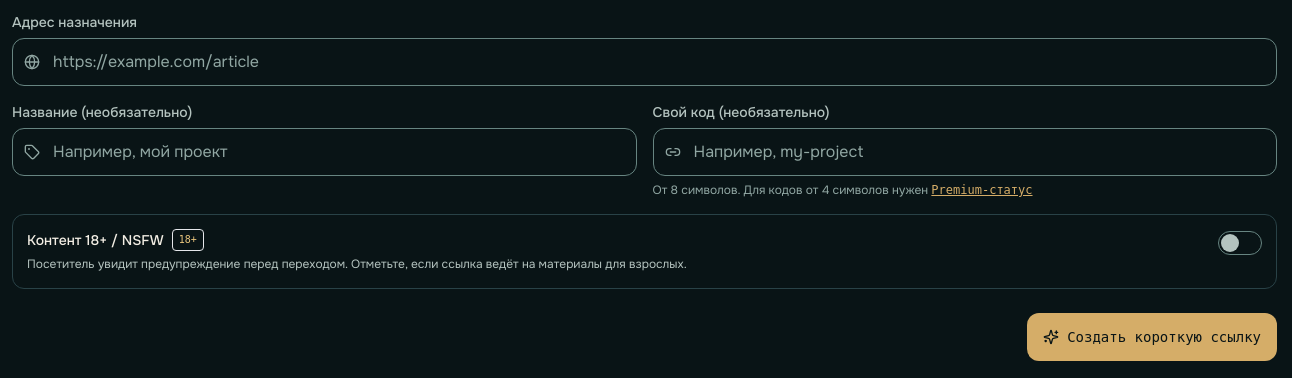
CreateLinkForm › keeps preview active and locks submit button for 30 seconds upon success
The width and height of the screenshot is (1292, 378).
Type "https://example.com/test-hold" into the field labelled "Адрес назначения" at (644, 62), box top-left (12, 38), bottom-right (1277, 86)
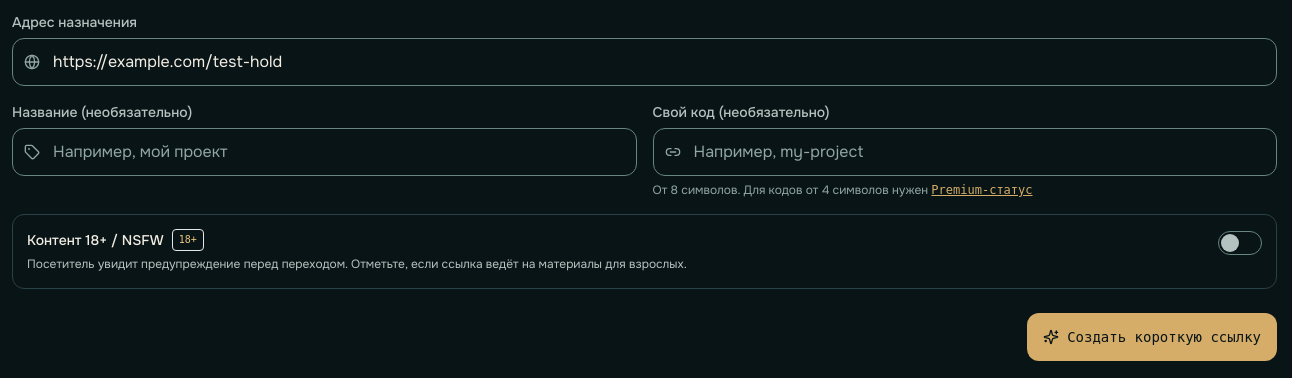
Click the button "Создать короткую ссылку" at (1152, 337), box top-left (1027, 313), bottom-right (1277, 361)
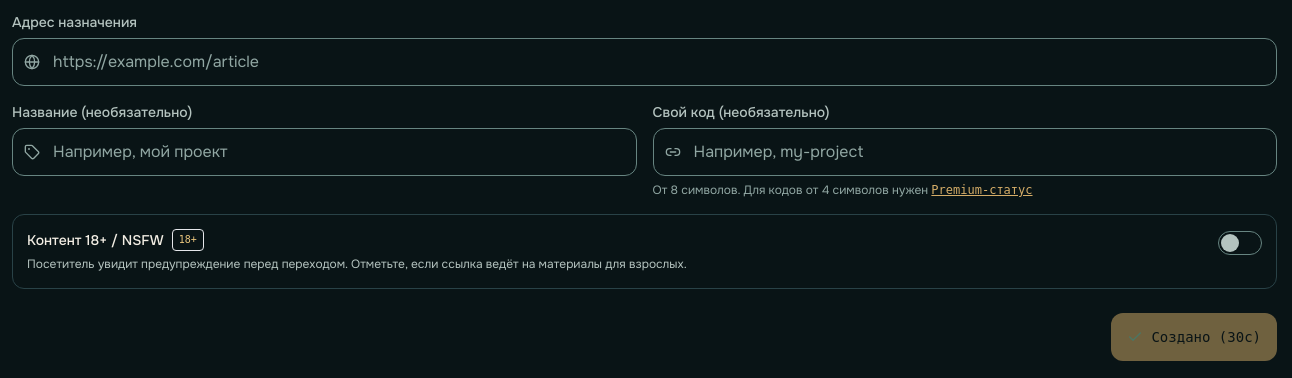
Check: the button "Создано (30с)" is disabled, box top-left (1111, 313), bottom-right (1277, 361)
